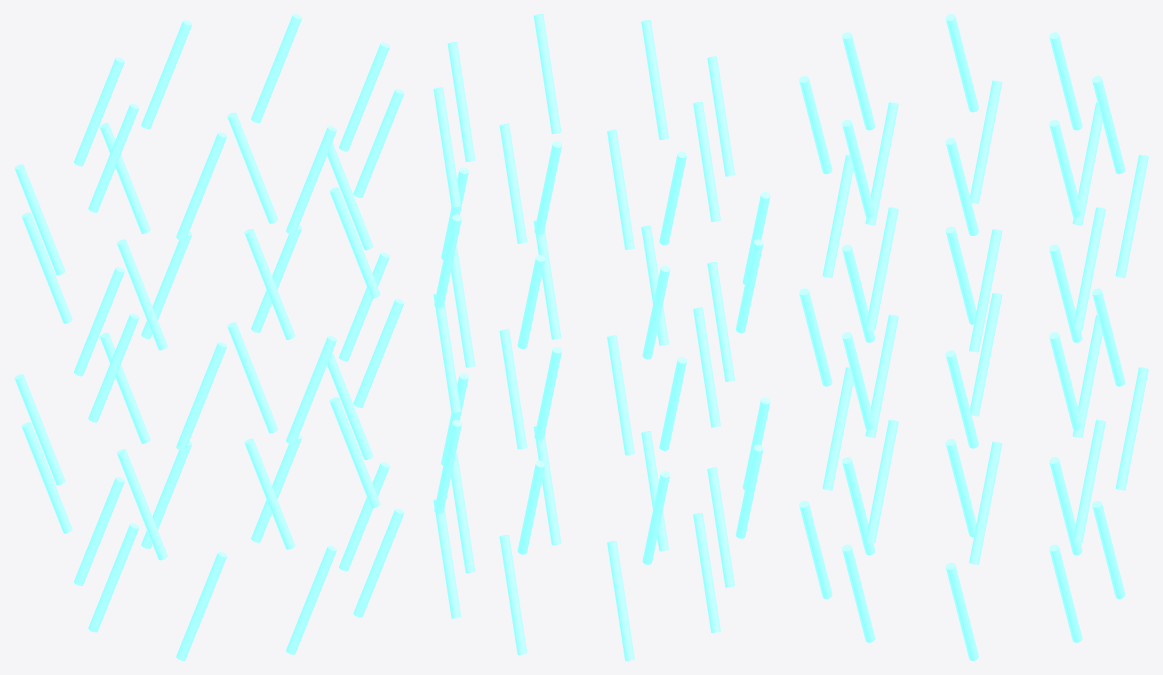
Rendered from Raikage_Skill1.fbx.
3 views of the same model, side by side, from view 1: azimuth 30°, elevation 25°; view 2: azimuth 150°, elevation 25°; view 3: azimuth 270°, elevation 25° (orthographic). The views are drawn at different scales.
Visible parts, largest first — view 1: LightningBolt.008, LightningBolt.021, LightningBolt.036, LightningBolt.038, LightningBolt.016, LightningBolt.018, LightningBolt.023, LightningBolt.028, LightningBolt.026, LightningBolt.006, LightningBolt.033, LightningBolt.031 (+28 smaller); view 2: LightningBolt.012, LightningBolt.022, LightningBolt.029, LightningBolt.009, LightningBolt.014, LightningBolt.017, LightningBolt.019, LightningBolt.025, LightningBolt.004, LightningBolt.010, LightningBolt.020, LightningBolt.024 (+28 smaller); view 3: LightningBolt.038, LightningBolt.001, LightningBolt.006, LightningBolt.008, LightningBolt.011, LightningBolt.013, LightningBolt.036, LightningBolt.003, LightningBolt.023, LightningBolt.021, LightningBolt.031, LightningBolt.033 (+28 smaller).
Part boxes in pixels (bbox=[...]): LightningBolt.008: bbox=[227, 112, 278, 223]; LightningBolt.021: bbox=[21, 422, 72, 533]; LightningBolt.036: bbox=[329, 397, 380, 508]; LightningBolt.038: bbox=[329, 187, 380, 298]; LightningBolt.016: bbox=[14, 374, 65, 485]; LightningBolt.018: bbox=[14, 164, 65, 275]; LightningBolt.023: bbox=[21, 212, 72, 323]; LightningBolt.028: bbox=[117, 239, 167, 350]; LightningBolt.026: bbox=[117, 449, 167, 560]; LightningBolt.006: bbox=[227, 322, 278, 433]; LightningBolt.033: bbox=[244, 229, 295, 339]; LightningBolt.031: bbox=[244, 438, 295, 549]; LightningBolt.012: bbox=[499, 329, 527, 449]; LightningBolt.022: bbox=[693, 307, 720, 427]; LightningBolt.029: bbox=[707, 56, 734, 176]; LightningBolt.009: bbox=[433, 87, 461, 207]; LightningBolt.014: bbox=[499, 123, 527, 243]; LightningBolt.017: bbox=[607, 335, 634, 455]; LightningBolt.019: bbox=[607, 129, 634, 249]; LightningBolt.025: bbox=[707, 467, 734, 587]; LightningBolt.004: bbox=[447, 42, 475, 161]; LightningBolt.010: bbox=[499, 535, 527, 654]; LightningBolt.020: bbox=[693, 513, 720, 632]; LightningBolt.024: bbox=[693, 101, 720, 221]; LightningBolt.038: bbox=[865, 207, 898, 330]; LightningBolt.001: bbox=[969, 441, 1002, 564]; LightningBolt.006: bbox=[1072, 419, 1105, 542]; LightningBolt.008: bbox=[1072, 207, 1105, 330]; LightningBolt.011: bbox=[1115, 367, 1148, 490]; LightningBolt.013: bbox=[1115, 154, 1148, 277]; LightningBolt.036: bbox=[865, 419, 898, 542]; LightningBolt.003: bbox=[969, 229, 1002, 352]; LightningBolt.023: bbox=[970, 80, 1002, 203]; LightningBolt.021: bbox=[970, 293, 1002, 416]; LightningBolt.031: bbox=[822, 367, 853, 490]; LightningBolt.033: bbox=[822, 154, 853, 277].
Size of the model in its own units: 137 by 201 by 119.
